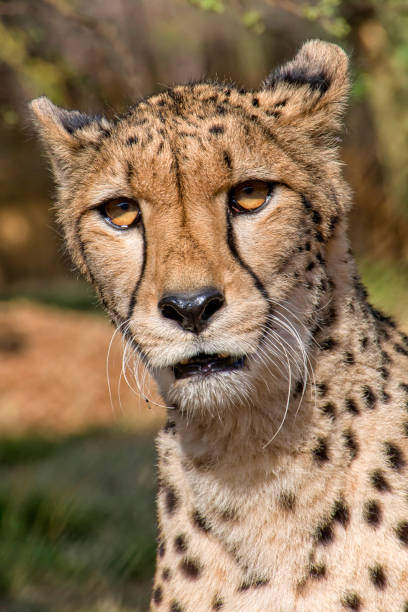cheetah: (9, 34, 382, 479)
